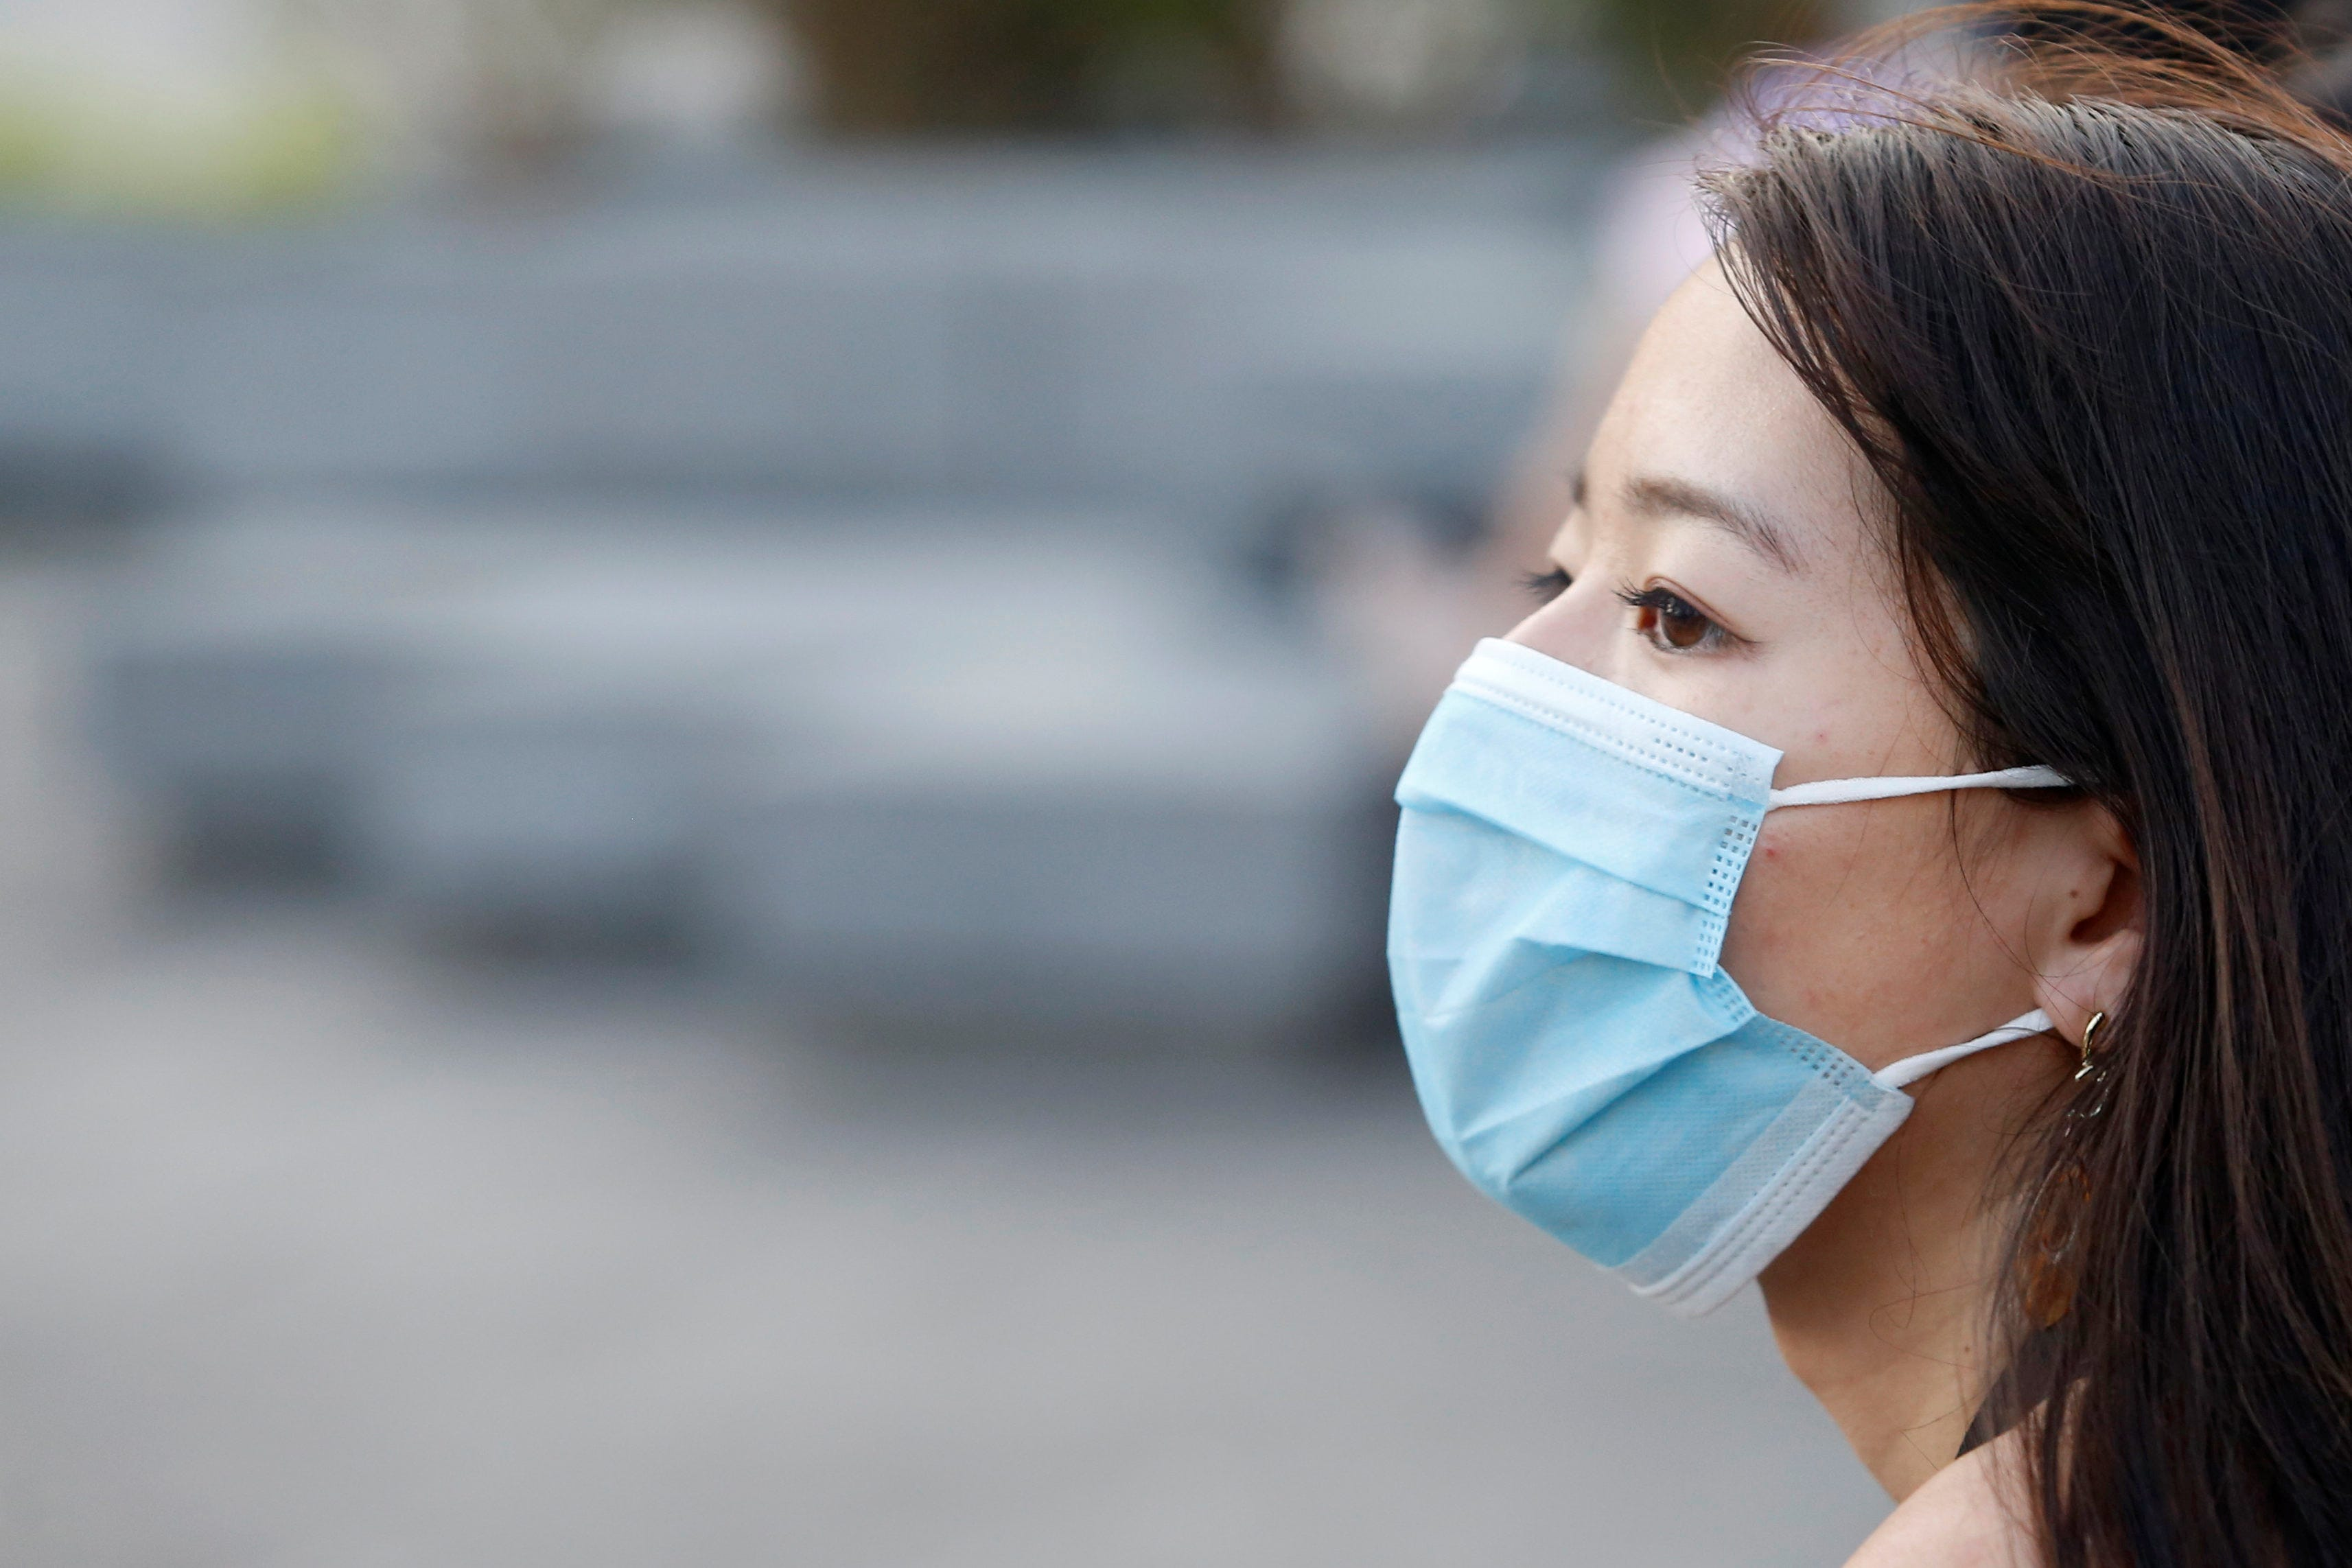mask: (1373, 74, 2303, 1357)
